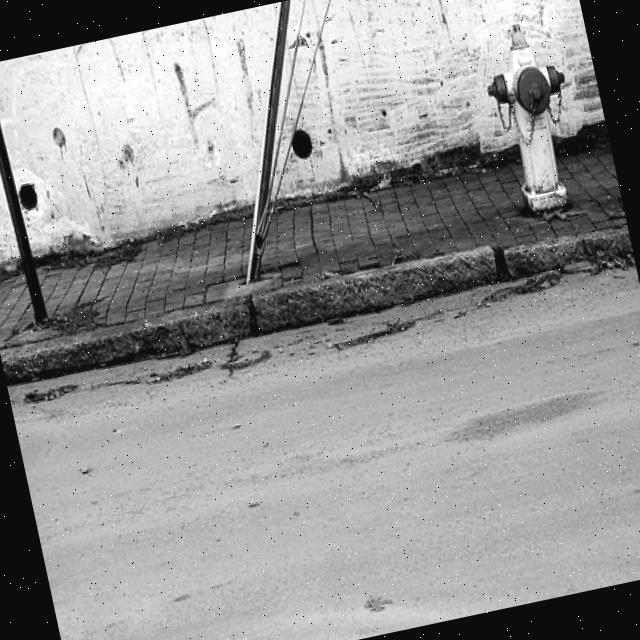fire_hydrant: (472, 13, 597, 220)
